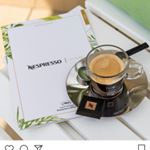cups: (84, 43, 131, 100)
